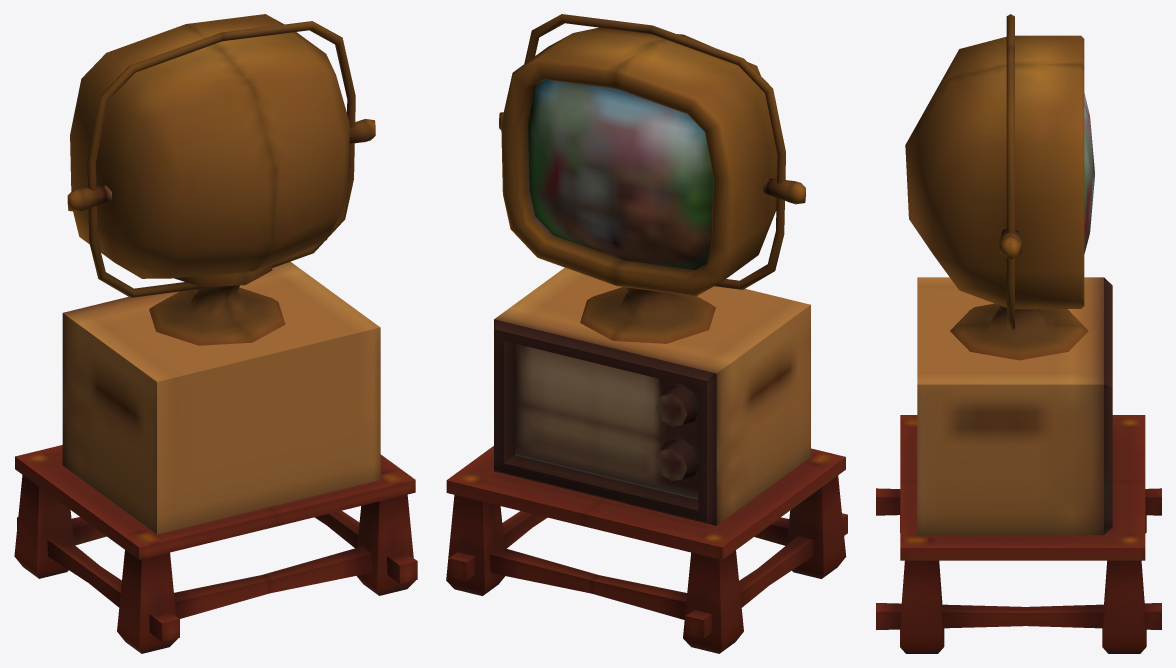
3 views of the same model, side by side, from view 1: azimuth 30°, elevation 25°; view 2: azimuth 150°, elevation 25°; view 3: azimuth 270°, elevation 25° (orthographic).
Parts seen in each view (by area): view 1: TV_01; view 2: TV_01; view 3: TV_01.
Part boxes in pixels (x1=…): TV_01: x1=14, y1=14, x2=417, y2=653; TV_01: x1=446, y1=14, x2=847, y2=653; TV_01: x1=876, y1=14, x2=1161, y2=653.
Size of the model in its own units: 40.31 by 69.11 by 32.97.
Materials: 1 (1 with a texture image).
